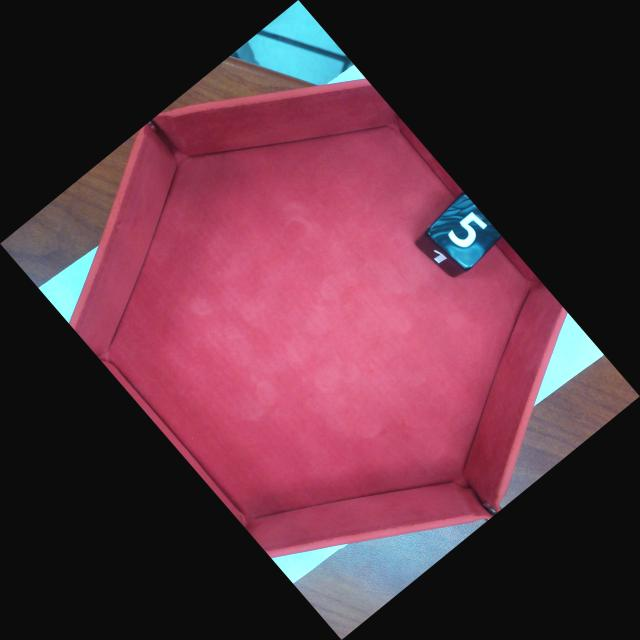dice: (432, 202, 500, 267)
